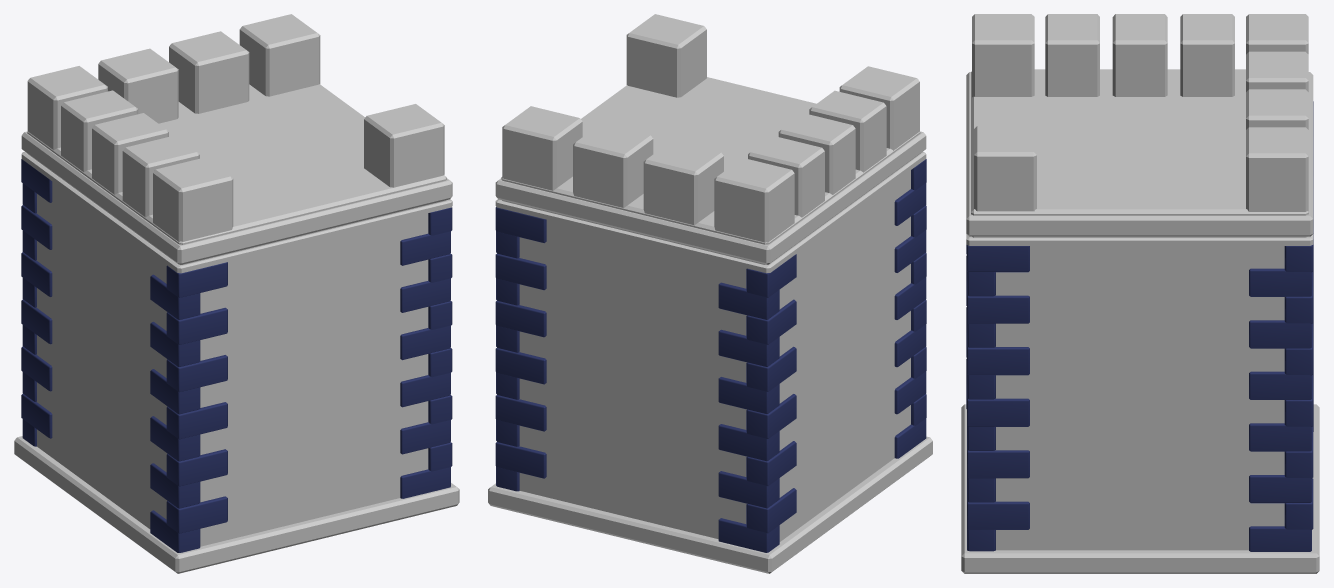
File: corner.fbx
The picture shows the model from 3 angles, left to right: view 1: azimuth 30°, elevation 25°; view 2: azimuth 150°, elevation 25°; view 3: azimuth 270°, elevation 25°; orthographic projection. The views are drawn at different scales.
Parts seen in each view (by area): view 1: corner; view 2: corner; view 3: corner.
Part boxes in pixels (x1=…): corner: x1=14, y1=14, x2=459, y2=573; corner: x1=488, y1=14, x2=932, y2=573; corner: x1=961, y1=14, x2=1319, y2=573.
Bounding box in the file's own units: 416 × 532 × 414.
